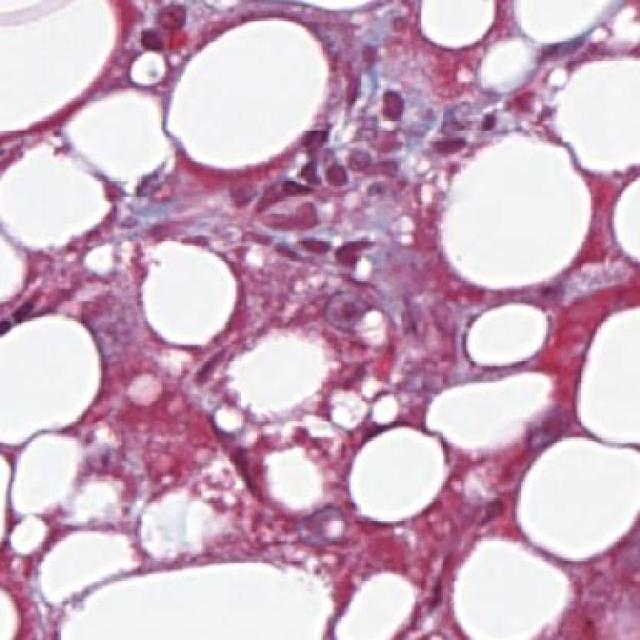inflammation: (252, 120, 353, 223)
